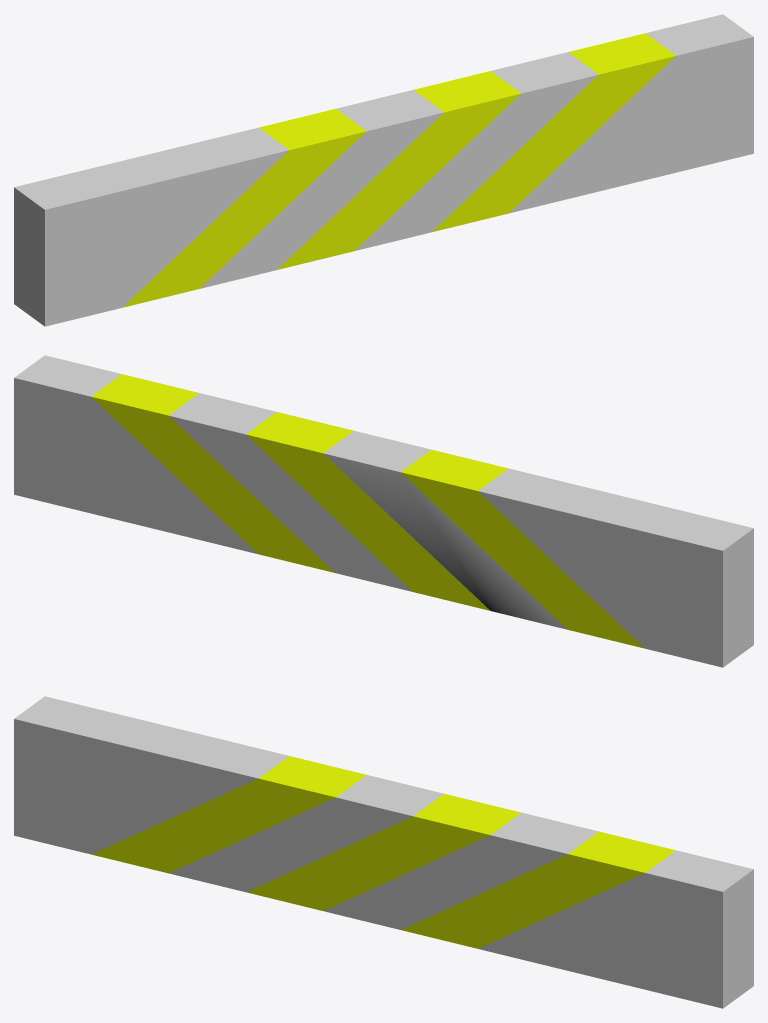
The model's file is mello-barrier.FBX.
3 renders of one model, top to bottom at view 1: azimuth 30°, elevation 25°; view 2: azimuth 150°, elevation 25°; view 3: azimuth 330°, elevation 25°, orthographic.
Parts seen in each view (by area): view 1: Object122; view 2: Object122; view 3: Object122.
Boxes of the visible parts, left/top/right/bottom form: Object122: left=14, top=14, right=753, bottom=326; Object122: left=14, top=355, right=753, bottom=667; Object122: left=14, top=696, right=753, bottom=1008.
Bounding box in the file's own units: 265 × 41.66 × 20.
